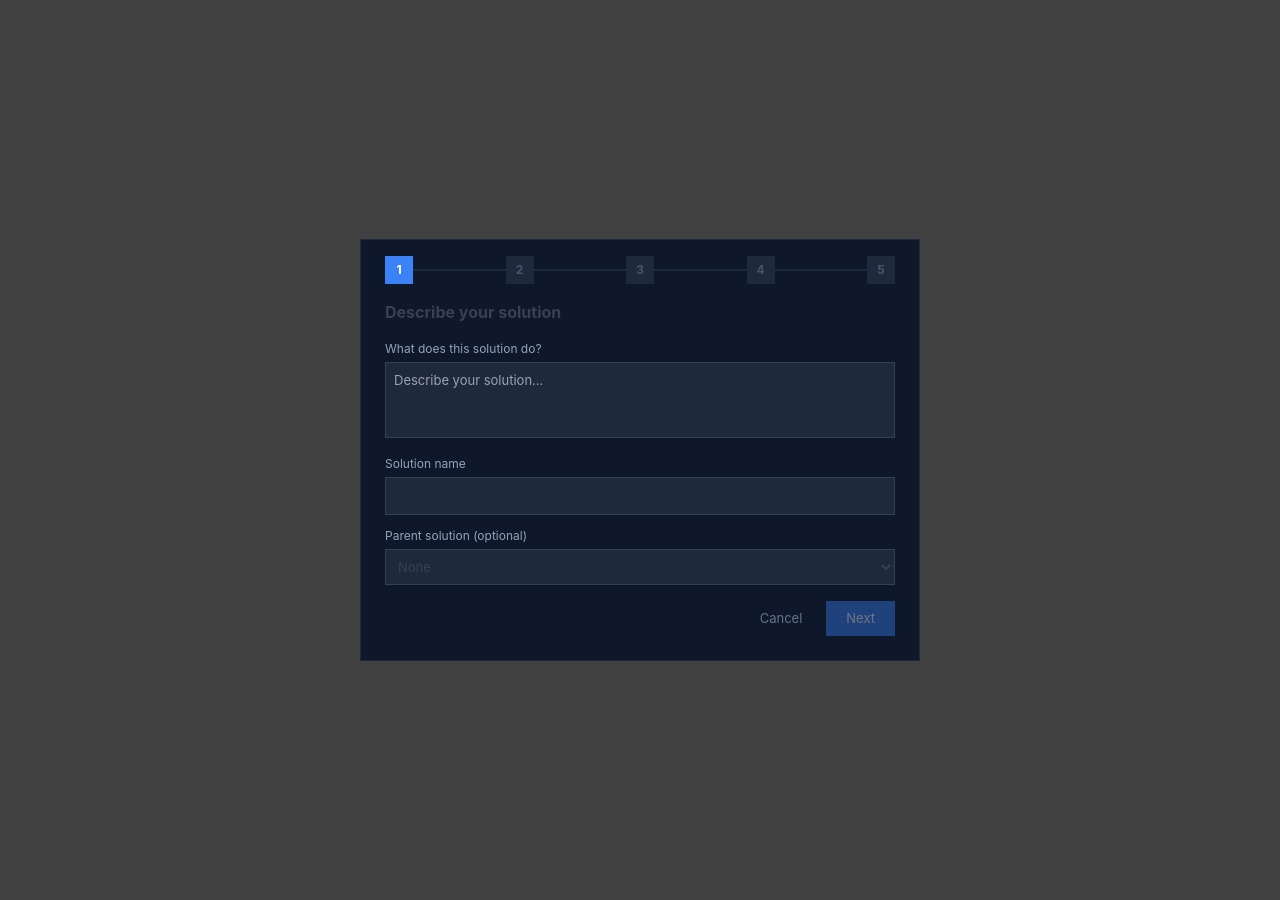
OnboardingWizard › step 2 has Skip link
Type "A monitoring platform" into the text box with placeholder "Describe your solution..." at (640, 400), box top-left (385, 362), bottom-right (895, 438)
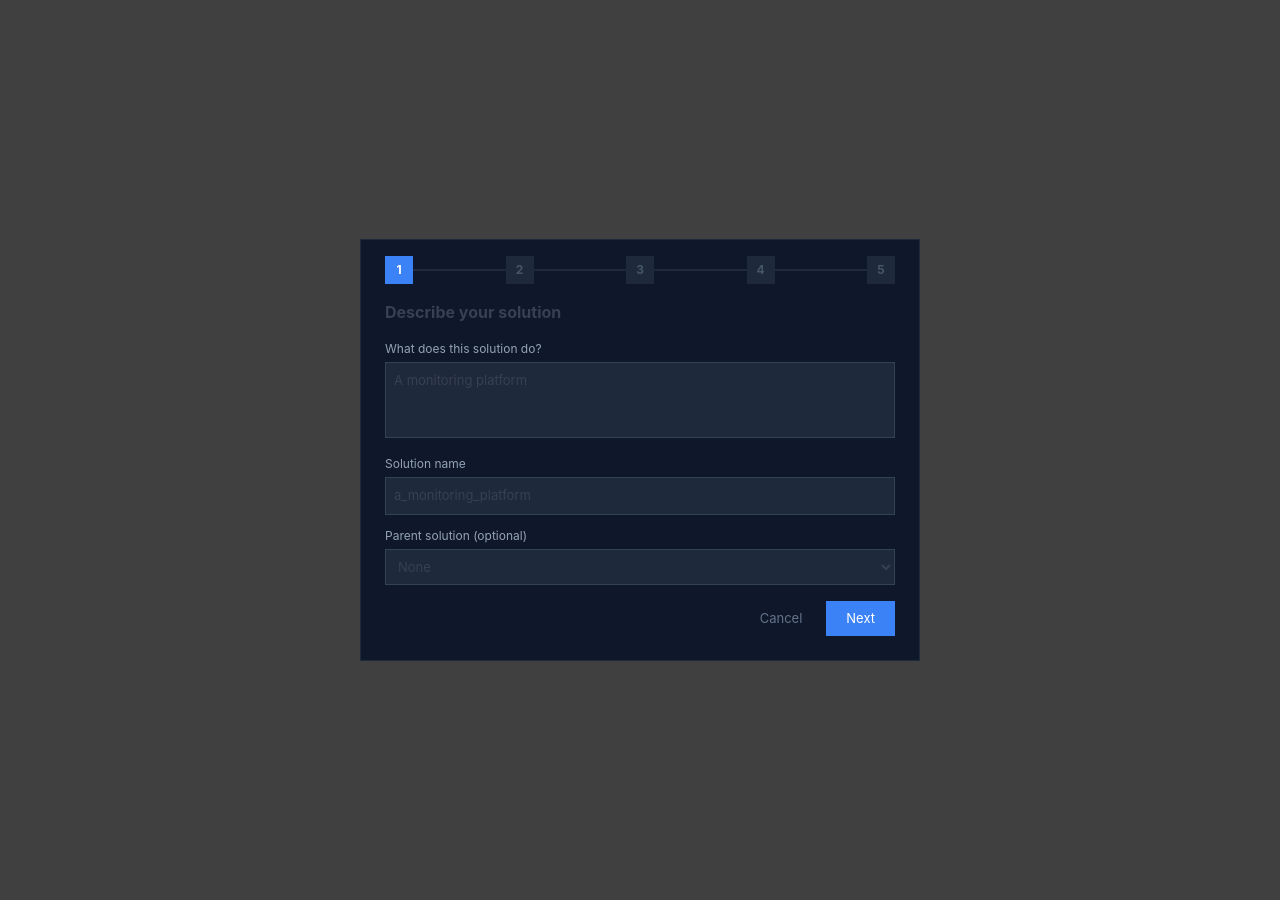
Replace the text in the field labelled "Solution name" with "mon_platform" at (640, 496), box top-left (385, 477), bottom-right (895, 515)
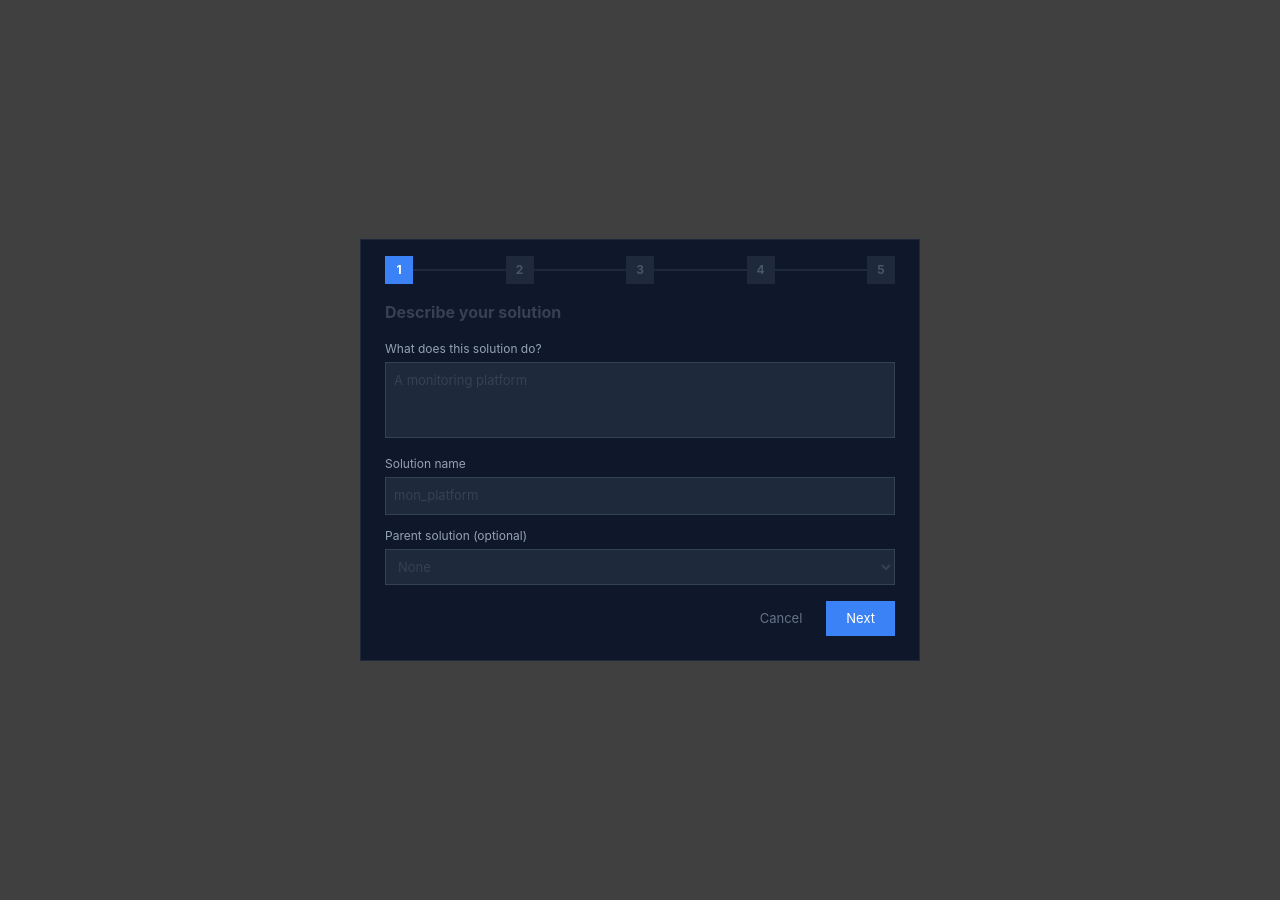
Click the button "Next" at (861, 619), box top-left (826, 601), bottom-right (895, 636)
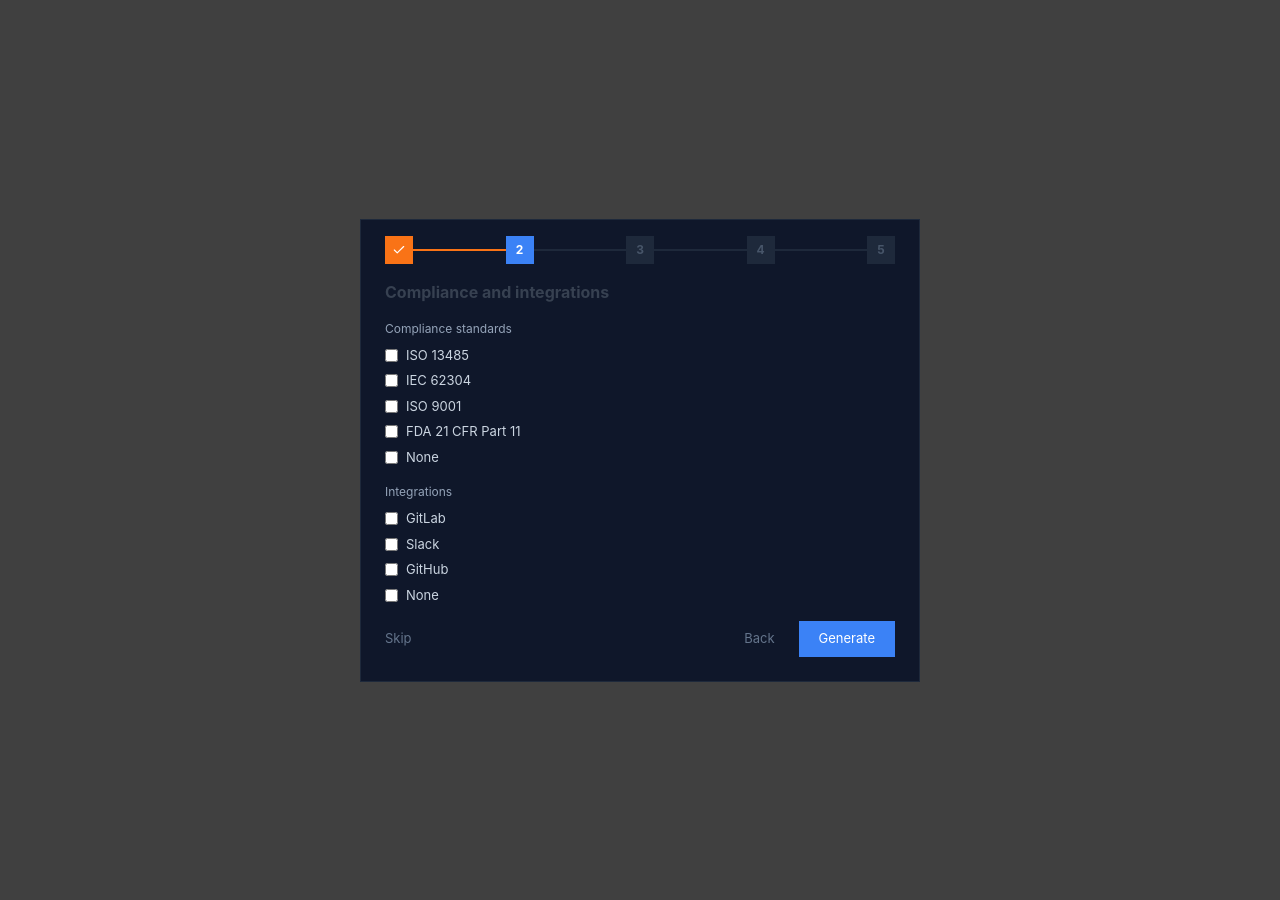
Result: the button "Skip" is shown at top-left (385, 629), bottom-right (412, 648)
